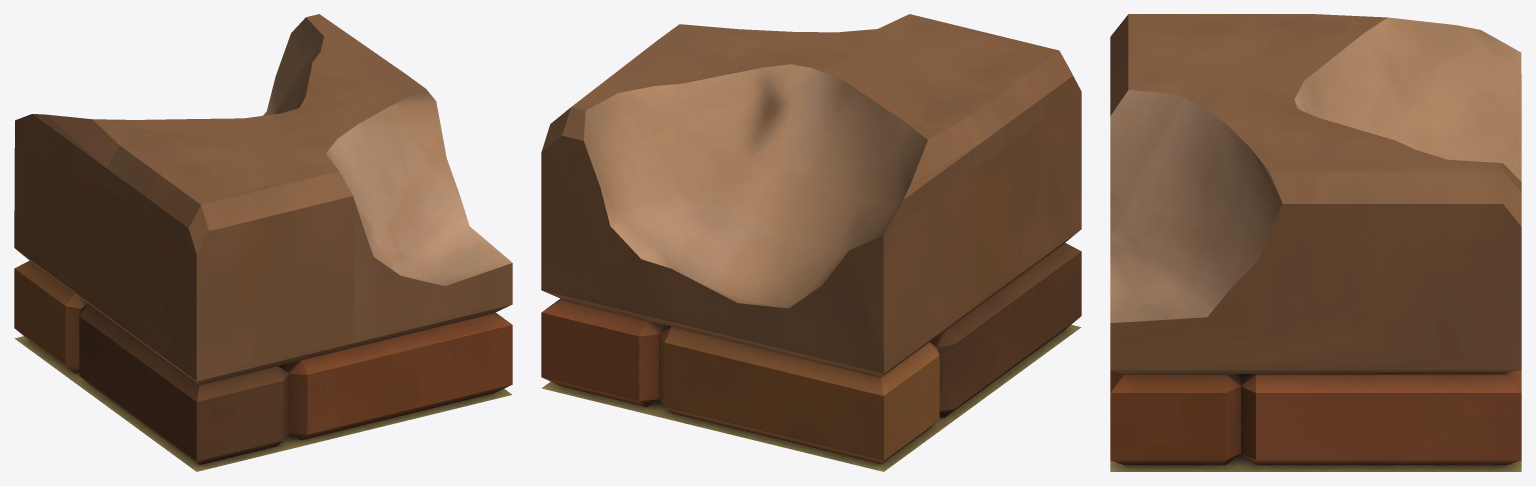
Rendered from ä-Mur.FBX.
3 renders of one model, left to right at view 1: azimuth 30°, elevation 25°; view 2: azimuth 150°, elevation 25°; view 3: azimuth 270°, elevation 25°, orthographic. The views are drawn at different scales.
Parts seen in each view (by area): view 1: ä-Mur; view 2: ä-Mur; view 3: ä-Mur.
Part boxes in pixels (box(x1,y1,x2,y2)): ä-Mur: box(14, 14, 512, 471); ä-Mur: box(541, 14, 1081, 471); ä-Mur: box(1110, 14, 1521, 471).
Bounding box in the file's own units: 2 × 1.56 × 2.
